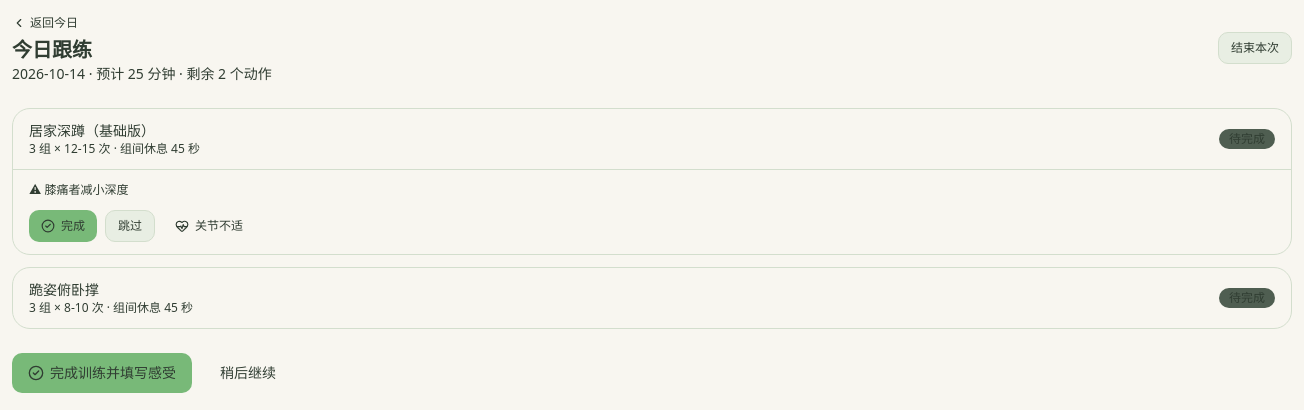
WorkoutPage › starts a session and completes one exercise via the API
Expected: the text "居家深蹲（基础版）" is shown, 29,121 -> 155,140
Click the button with aria-label "完成 居家深蹲（基础版）": (63, 226) 29,210 -> 97,242
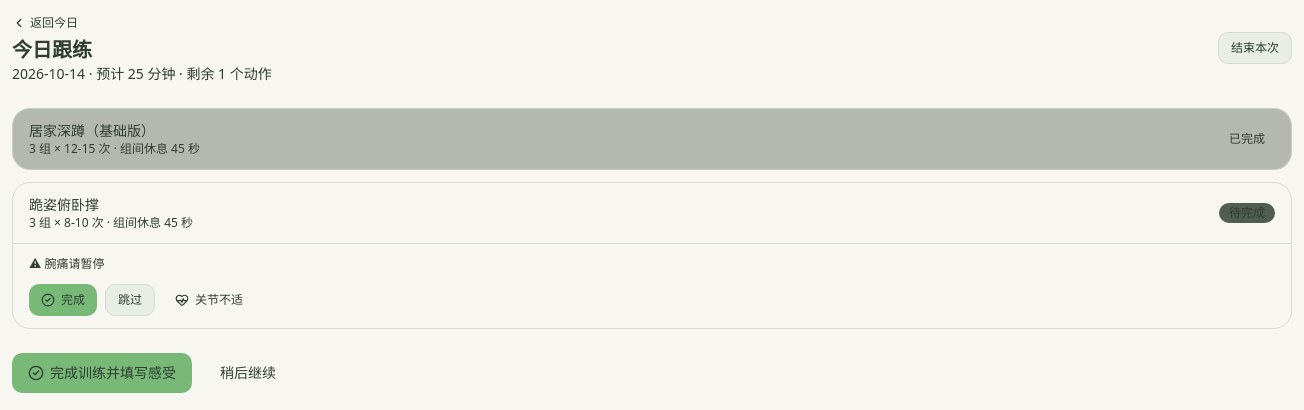
Now the text "已完成" is shown, box 1229,130 -> 1265,147
